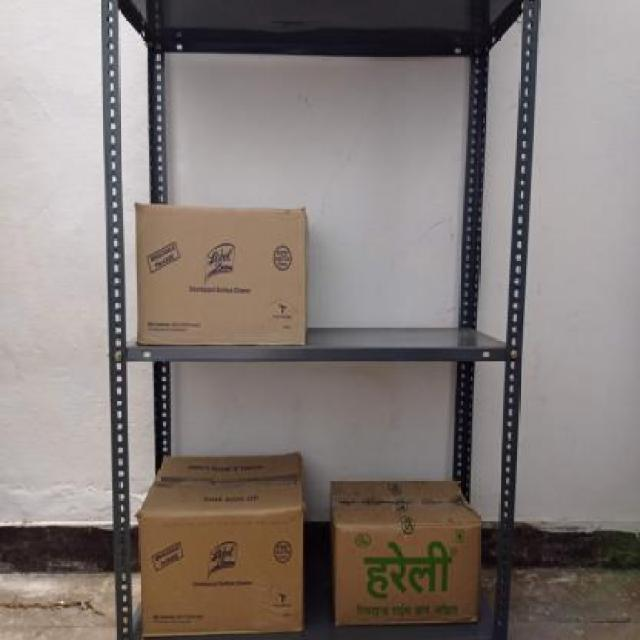box: (134, 205, 312, 344), (138, 507, 304, 638), (338, 522, 476, 628)
